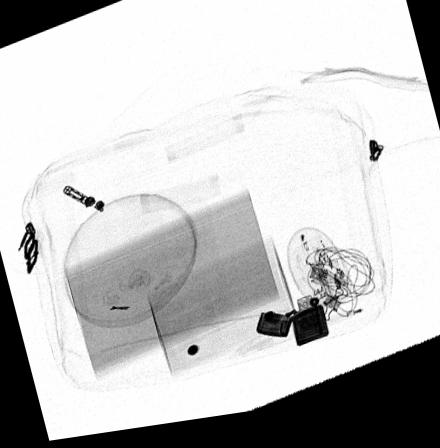Lighter: (255, 303, 329, 356)
